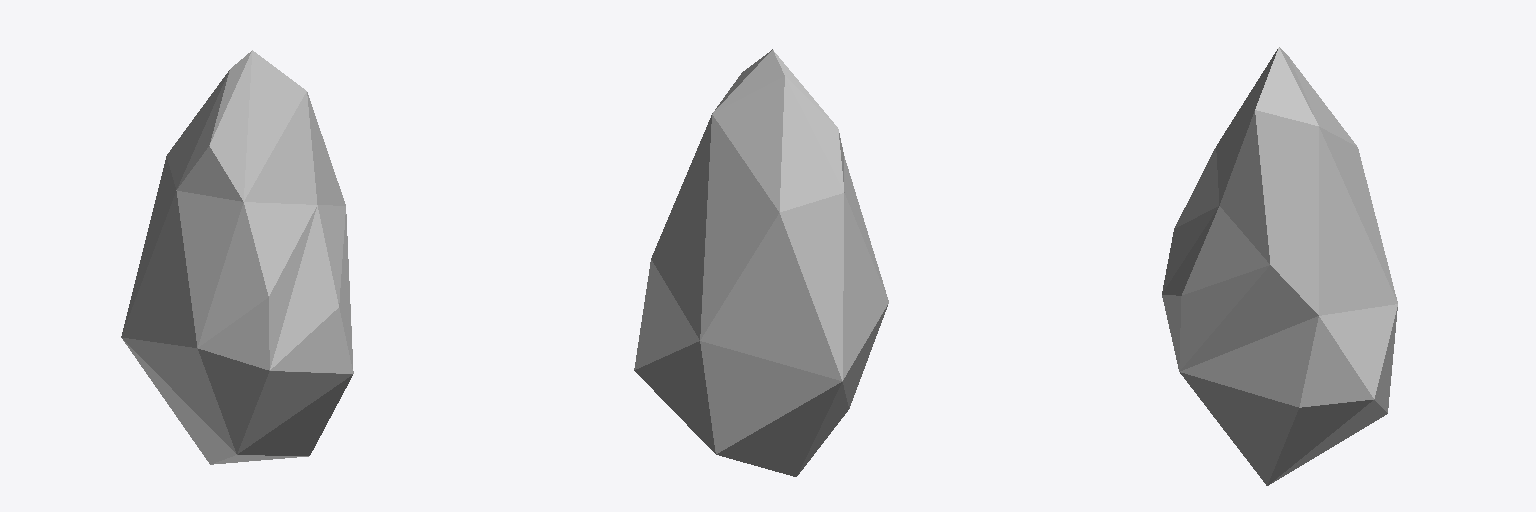
File: crystal1.obj
3 renders of one model, left to right at view 1: azimuth 30°, elevation 25°; view 2: azimuth 150°, elevation 25°; view 3: azimuth 270°, elevation 25°, orthographic.
Visible parts, largest first — view 1: Crystal_005; view 2: Crystal_005; view 3: Crystal_005.
Boxes of the visible parts, box(x1,y1,x2,y2) form: Crystal_005: box(121, 50, 353, 464); Crystal_005: box(634, 49, 888, 476); Crystal_005: box(1162, 47, 1397, 485).
Bounding box in the file's own units: 0.7293 × 1.38 × 0.7129.